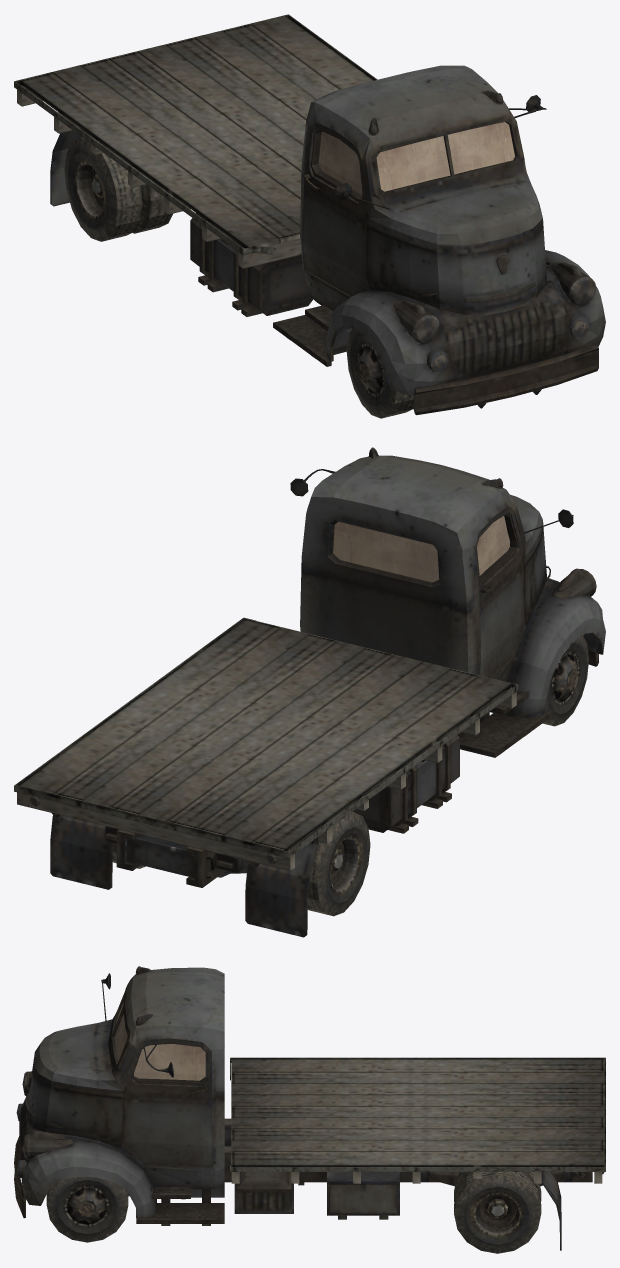
The picture shows the model from 3 angles, top to bottom: view 1: azimuth 30°, elevation 25°; view 2: azimuth 150°, elevation 25°; view 3: azimuth 270°, elevation 25°; orthographic projection. The views are drawn at different scales.
Visible parts, largest first — view 1: TruckMat1, TruckMat2, TruckGlass; view 2: TruckMat2, TruckMat1, TruckGlass; view 3: TruckMat2, TruckMat1, TruckGlass.
Part boxes in pixels (x1=…): TruckMat1: x1=50, y1=65, x2=605, y2=415; TruckMat2: x1=14, y1=14, x2=413, y2=418; TruckGlass: x1=318, y1=122, x2=514, y2=194; TruckMat2: x1=14, y1=617, x2=588, y2=916; TruckMat1: x1=29, y1=447, x2=605, y2=937; TruckGlass: x1=333, y1=516, x2=509, y2=582; TruckMat2: x1=46, y1=1057, x2=605, y2=1253; TruckMat1: x1=14, y1=966, x2=604, y2=1250; TruckGlass: x1=114, y1=1002, x2=205, y2=1080.
Bounding box in the file's own units: 5.49 × 4.99 × 12.52.
